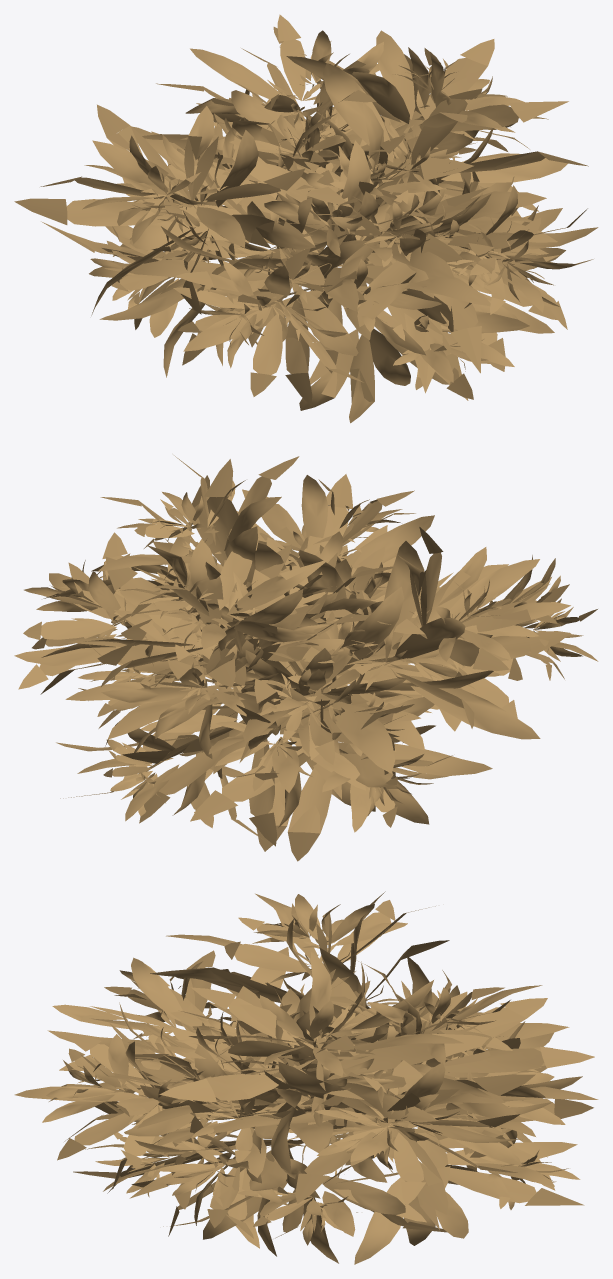
Rendered from plant4.FBX.
The picture shows the model from 3 angles, top to bottom: view 1: azimuth 30°, elevation 25°; view 2: azimuth 150°, elevation 25°; view 3: azimuth 270°, elevation 25°; orthographic projection. The views are drawn at different scales.
Visible parts, largest first — view 1: __235; view 2: __235; view 3: __235.
Part boxes in pixels (left/top/right/bottom): __235: left=14, top=14, right=598, bottom=423; __235: left=14, top=455, right=598, bottom=861; __235: left=14, top=891, right=598, bottom=1264.
Bounding box in the file's own units: 48.95 × 28.77 × 53.18.
